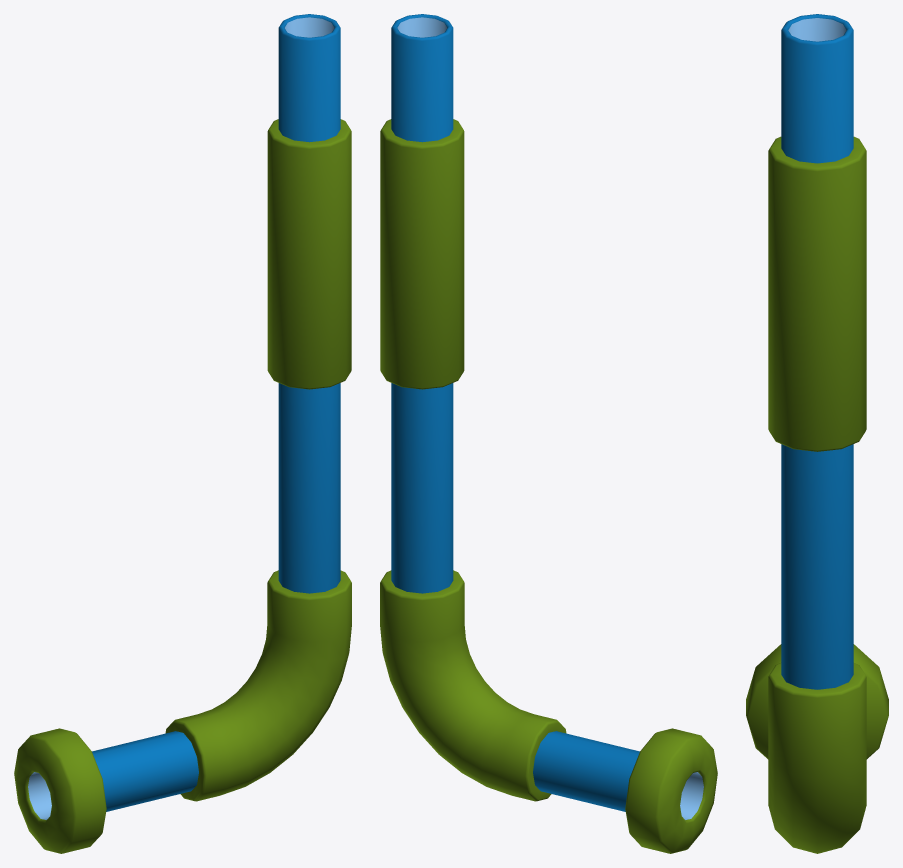
Rendered from Snorkel.fbx.
The picture shows the model from 3 angles, left to right: view 1: azimuth 30°, elevation 25°; view 2: azimuth 150°, elevation 25°; view 3: azimuth 270°, elevation 25°; orthographic projection. The views are drawn at different scales.
Parts seen in each view (by area): view 1: Snorkel; view 2: Snorkel; view 3: Snorkel.
Boxes of the visible parts, x1,y1,x2,y2 form: Snorkel: (14, 14, 351, 853); Snorkel: (380, 14, 717, 853); Snorkel: (746, 14, 888, 853).
Size of the model in its own units: 14.84 by 35 by 5.12.
